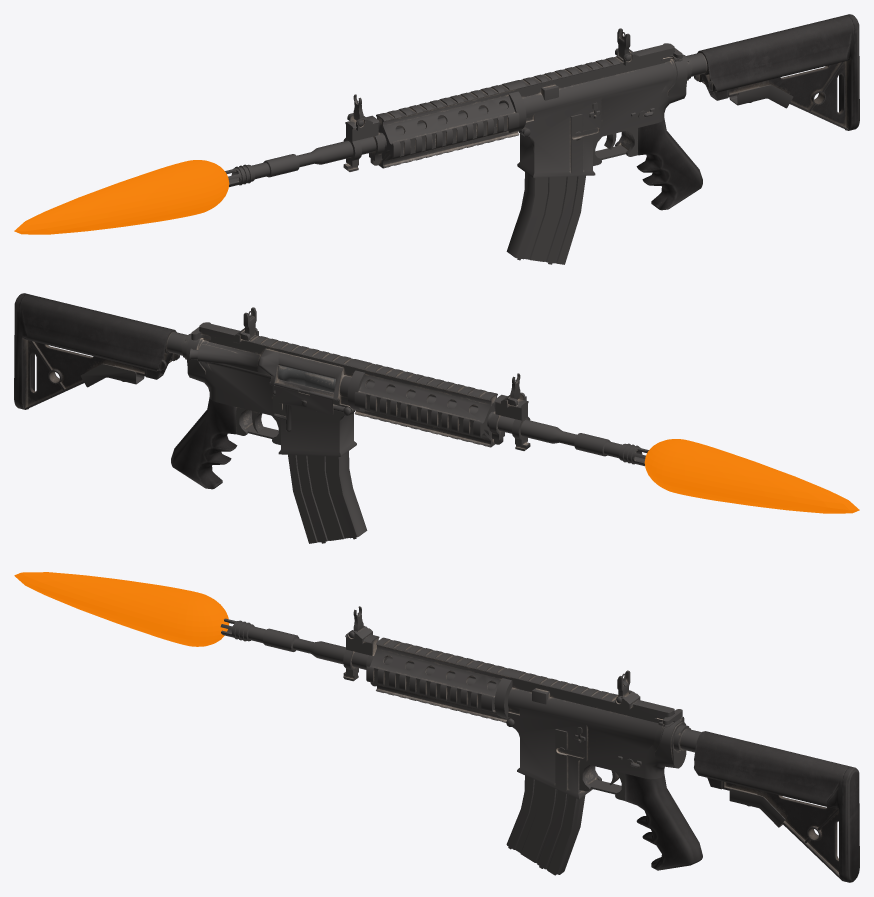
3 renders of one model, top to bottom at view 1: azimuth 30°, elevation 25°; view 2: azimuth 150°, elevation 25°; view 3: azimuth 330°, elevation 25°, orthographic.
Parts seen in each view (by area): view 1: M44A1_Body_UV_M4A1_0, m4_flashObj; view 2: M44A1_Body_UV_M4A1_0, m4_flashObj; view 3: M44A1_Body_UV_M4A1_0, m4_flashObj.
Part boxes in pixels (<box>): M44A1_Body_UV_M4A1_0: <box>225,14,859,264</box>; m4_flashObj: <box>14,160,229,234</box>; M44A1_Body_UV_M4A1_0: <box>14,293,648,543</box>; m4_flashObj: <box>644,439,859,513</box>; M44A1_Body_UV_M4A1_0: <box>220,606,859,882</box>; m4_flashObj: <box>14,572,229,646</box>.
Size of the model in its own units: 2.04 by 0.4982 by 0.1198.
Materials: 2 (1 with a texture image).
